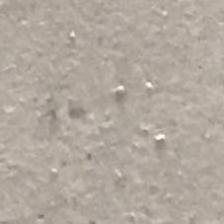Non_Crack: (19, 5, 223, 224)
